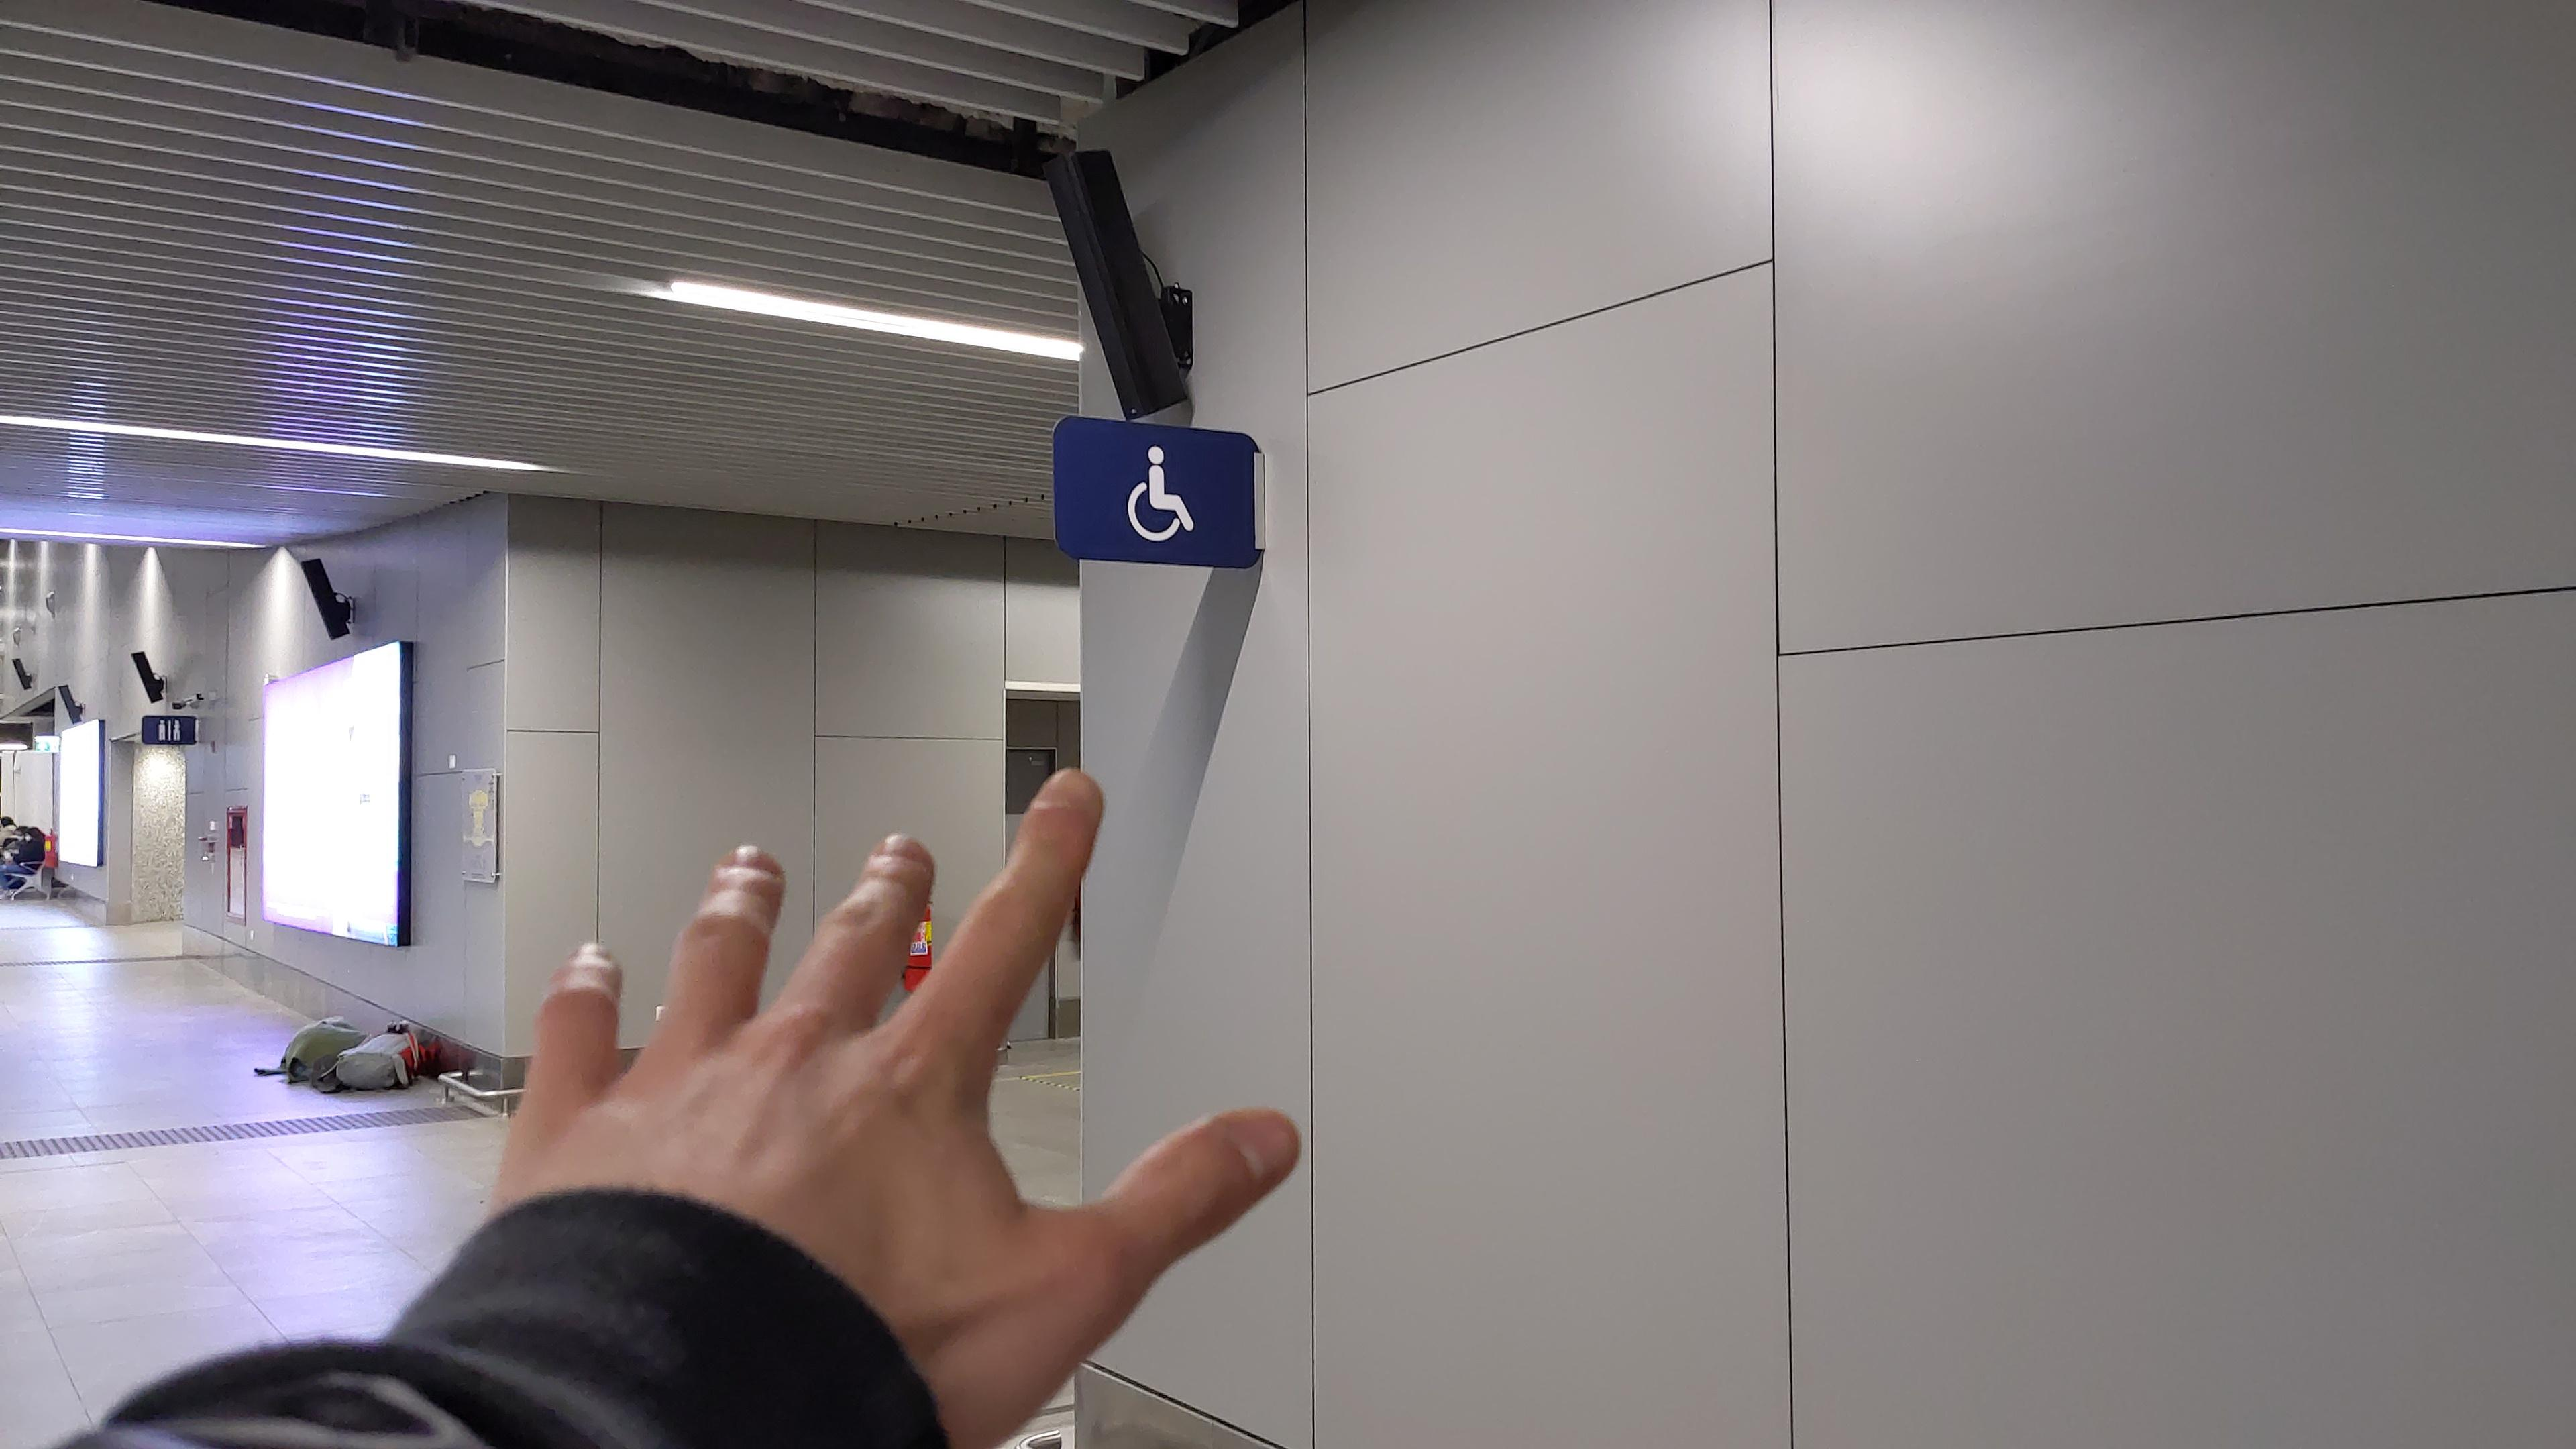handicapped symbol: (1122, 444, 1196, 543)
